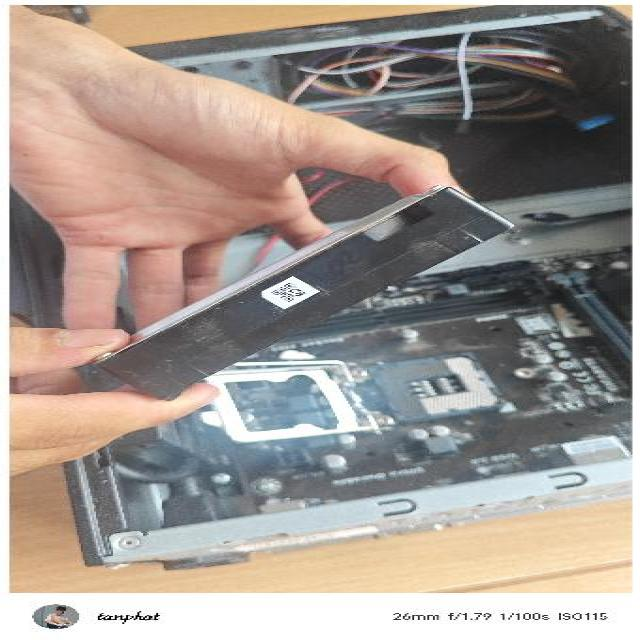DISK: (66, 181, 534, 405)
